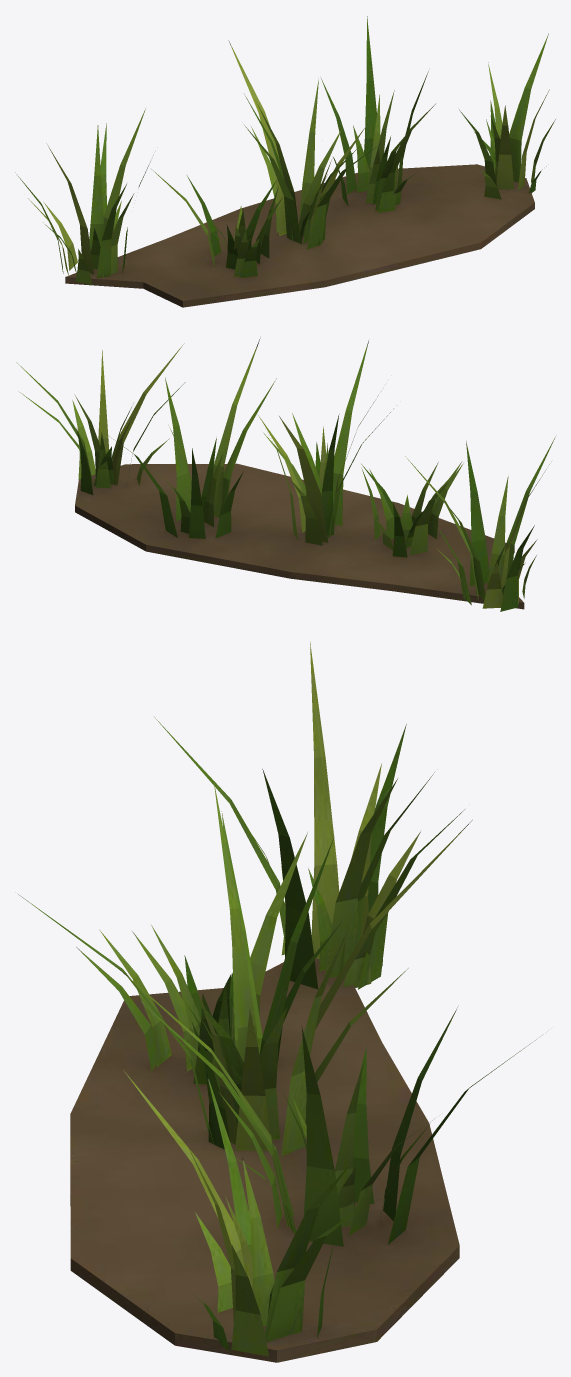
Rendered from grass_patchy_idle.glb.
The picture shows the model from 3 angles, top to bottom: view 1: azimuth 30°, elevation 25°; view 2: azimuth 150°, elevation 25°; view 3: azimuth 270°, elevation 25°; orthographic projection. The views are drawn at different scales.
Visible parts, largest first — view 1: grass_patchy; view 2: grass_patchy; view 3: grass_patchy.
Boxes of the visible parts, x1,y1,x2,y2 form: grass_patchy: [15, 16, 555, 307]; grass_patchy: [16, 338, 555, 611]; grass_patchy: [18, 642, 540, 1362].
Bounding box in the file's own units: 1.23 × 0.3805 × 0.5892.
1 material, 1 textured.
